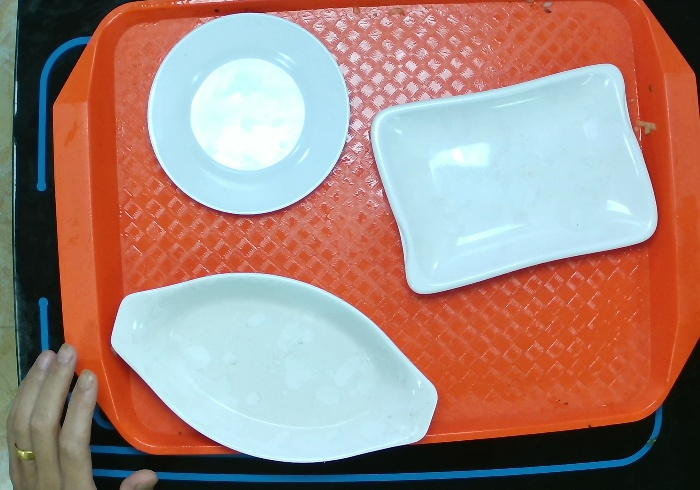RJxy-Si_Fang_Ao_Bian_Wan: (365, 62, 664, 295)
RJxy-Xiao_Yuan_Die: (146, 12, 351, 217)
RJxy-Yu_Pan: (107, 265, 438, 464)
